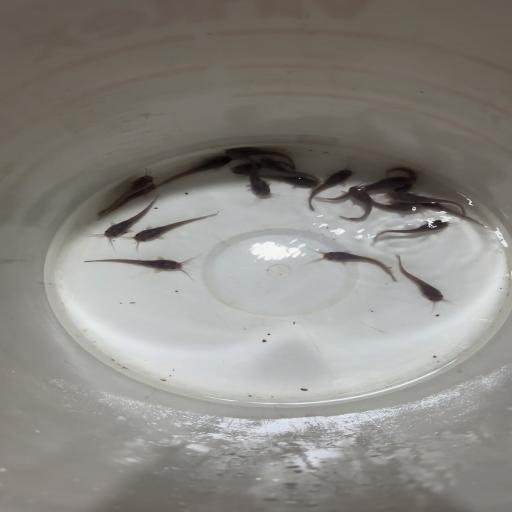lele: (302, 245, 398, 285), (96, 194, 164, 249), (394, 251, 456, 310), (81, 250, 201, 280), (130, 213, 220, 251), (85, 174, 156, 220), (258, 156, 320, 198), (312, 176, 412, 202), (388, 192, 467, 224), (366, 218, 455, 245), (302, 167, 354, 213), (216, 140, 300, 168), (162, 156, 232, 189), (98, 184, 160, 220), (423, 200, 491, 228), (240, 153, 275, 198), (248, 170, 316, 191), (226, 158, 292, 178), (340, 185, 372, 222), (382, 166, 418, 192), (363, 197, 417, 212)
